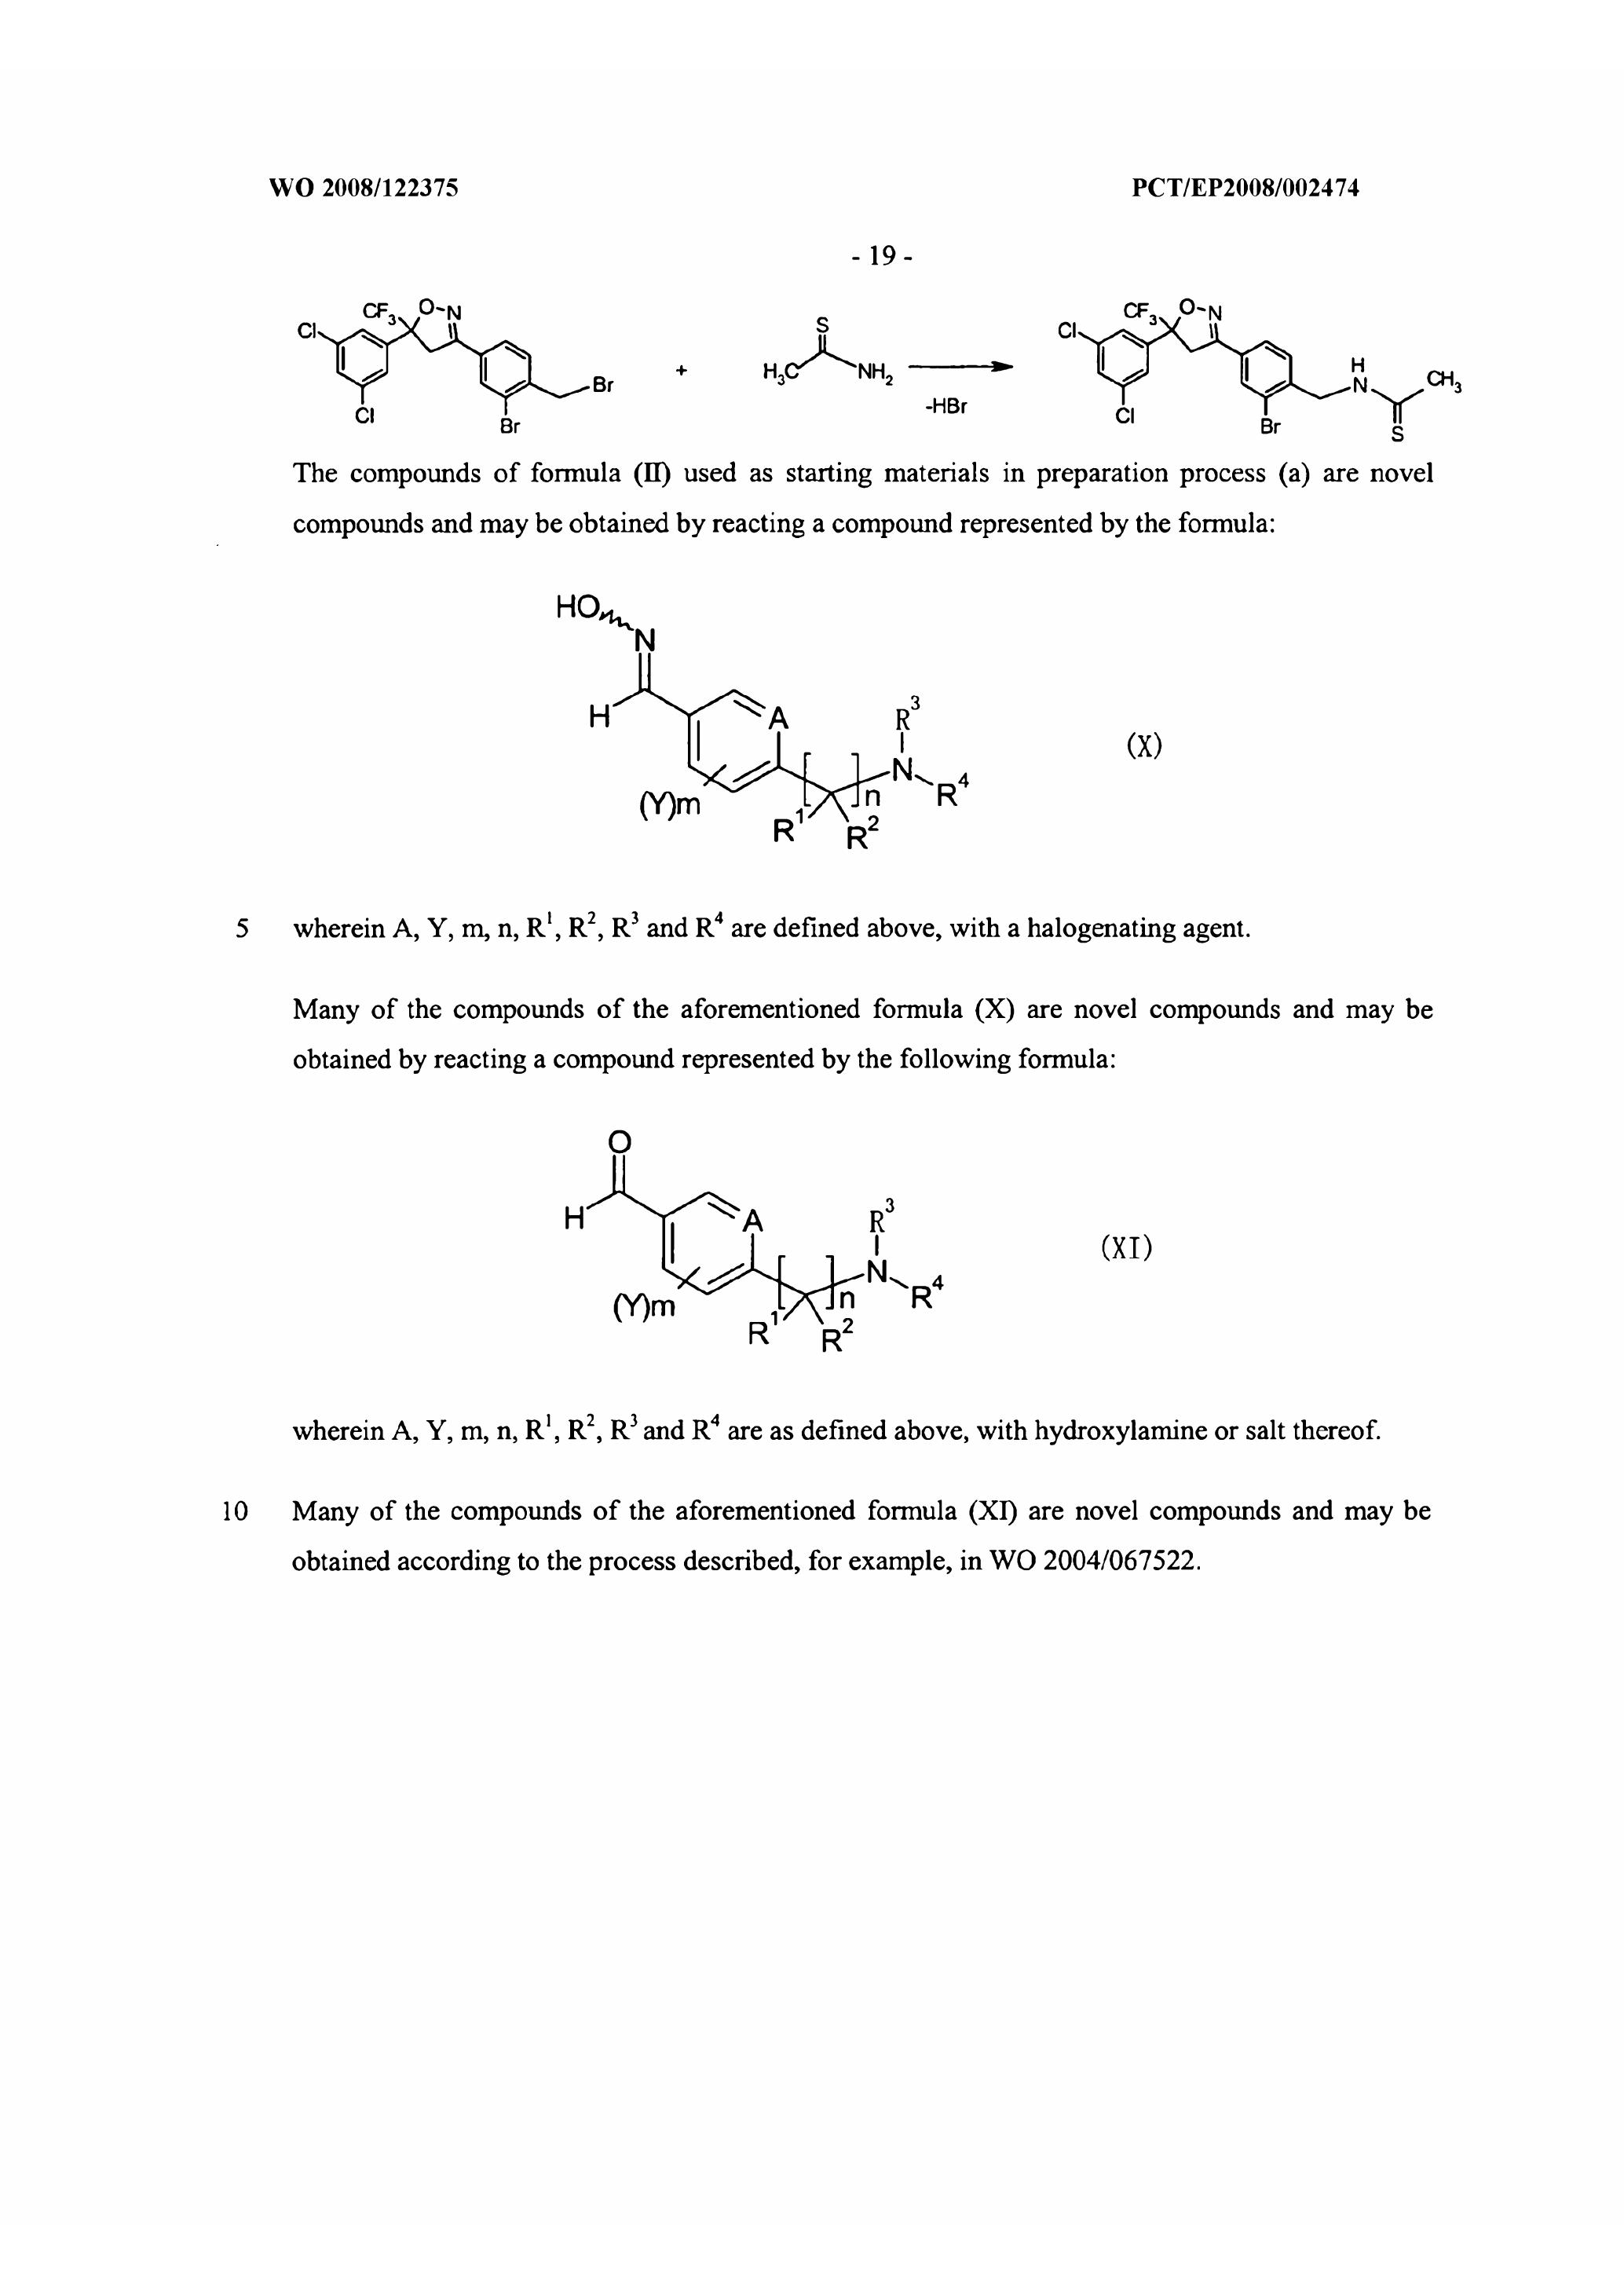reactions: (243, 236, 1536, 438)
